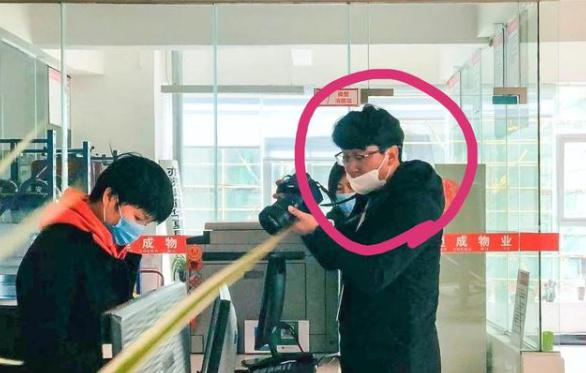OK: (102, 202, 155, 248), (335, 179, 362, 216)
WRONG: (343, 145, 384, 195)
